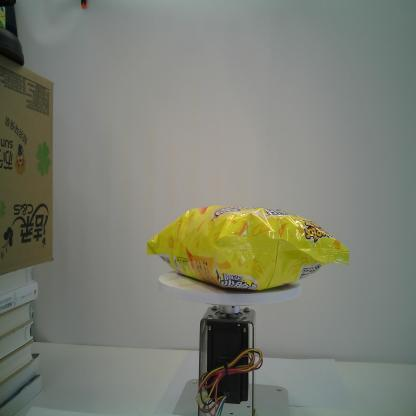Puffed Food: (143, 203, 350, 295)
